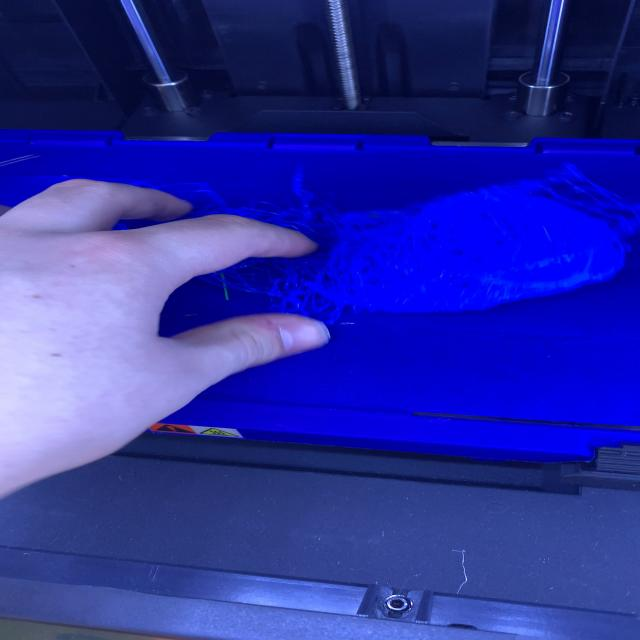spaghetti: (125, 163, 634, 330)
